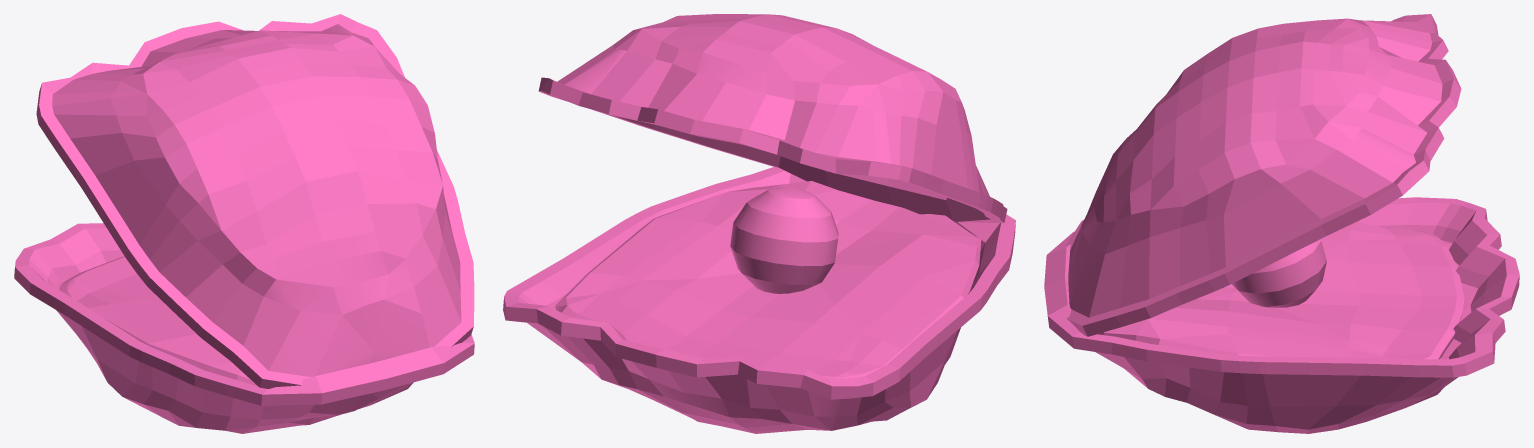
The model's file is Pearl.fbx.
3 views of the same model, side by side, from view 1: azimuth 30°, elevation 25°; view 2: azimuth 150°, elevation 25°; view 3: azimuth 270°, elevation 25° (orthographic). The views are drawn at different scales.
Parts seen in each view (by area): view 1: polySurface9; view 2: polySurface9; view 3: polySurface9.
Boxes of the visible parts, bbox=[...] form: polySurface9: bbox=[14, 14, 474, 433]; polySurface9: bbox=[503, 14, 1015, 433]; polySurface9: bbox=[1044, 14, 1519, 433].
Bounding box in the file's own units: 1.68 × 1.61 × 2.
